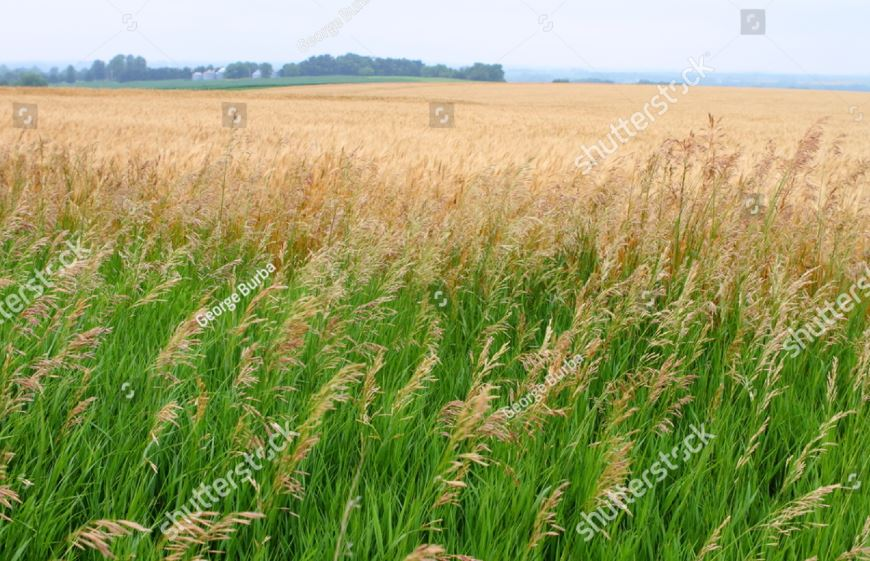Wheat: (284, 170, 502, 460)
